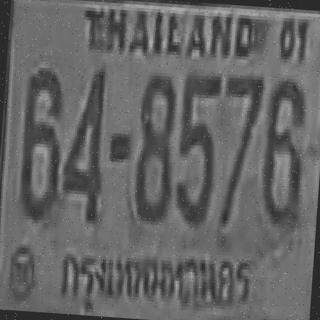N04: (60, 63, 107, 220)
N05: (173, 71, 220, 222)
N06: (258, 75, 307, 227), (17, 64, 64, 218)
N07: (216, 71, 263, 225)
N08: (132, 70, 176, 221)
P04: (48, 227, 258, 320)
